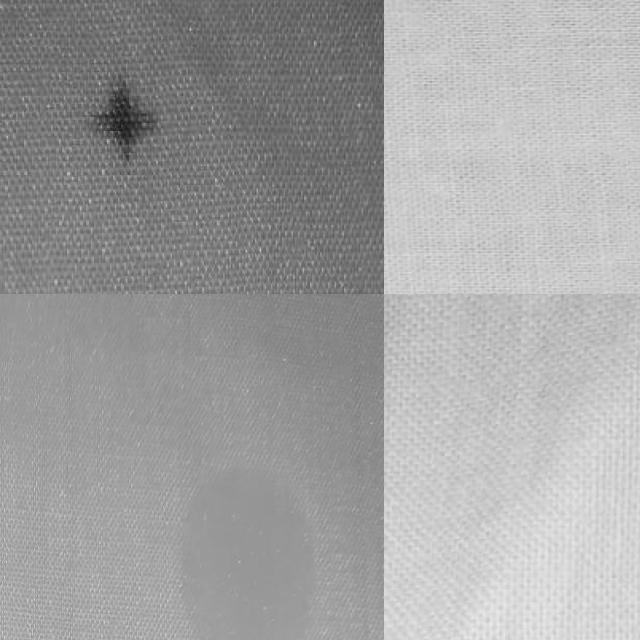Thread_other: (64, 63, 172, 191)
